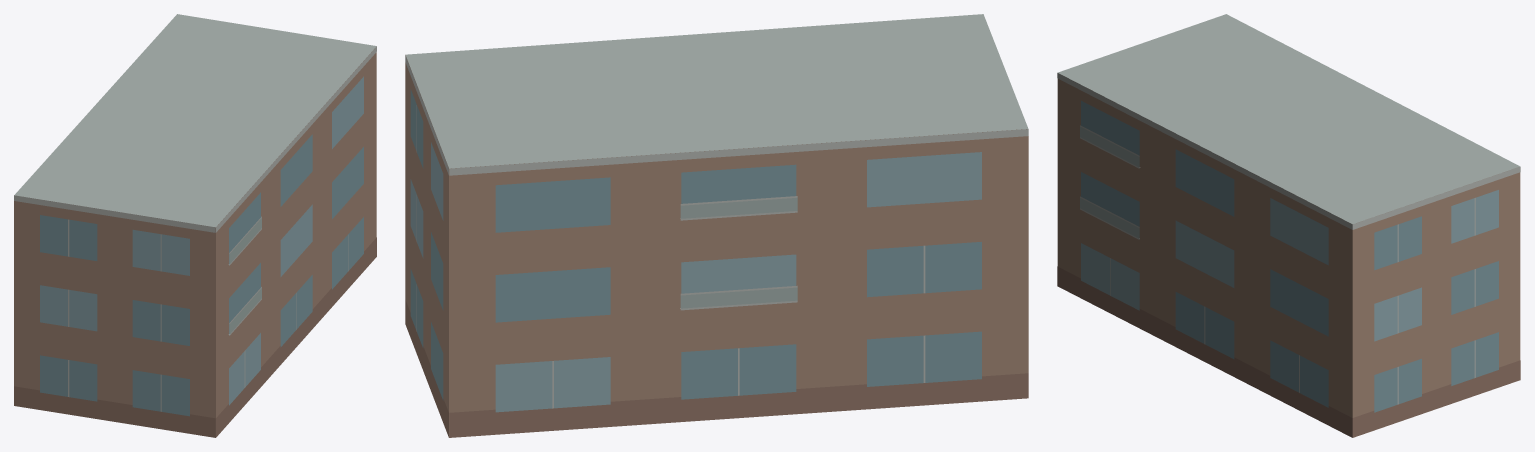
File: survey-upis-32964491.glb
3 renders of one model, left to right at view 1: azimuth 30°, elevation 25°; view 2: azimuth 150°, elevation 25°; view 3: azimuth 270°, elevation 25°, orthographic. The views are drawn at different scales.
Visible parts, largest first — view 1: survey-upis-32964491.tmp; view 2: survey-upis-32964491.tmp; view 3: survey-upis-32964491.tmp.
Part boxes in pixels (box(x1,y1,x2,y2)): survey-upis-32964491.tmp: box(14, 14, 376, 437); survey-upis-32964491.tmp: box(405, 14, 1028, 437); survey-upis-32964491.tmp: box(1057, 14, 1520, 437).
Bounding box in the file's own units: 19.33 × 9.15 × 17.99.
